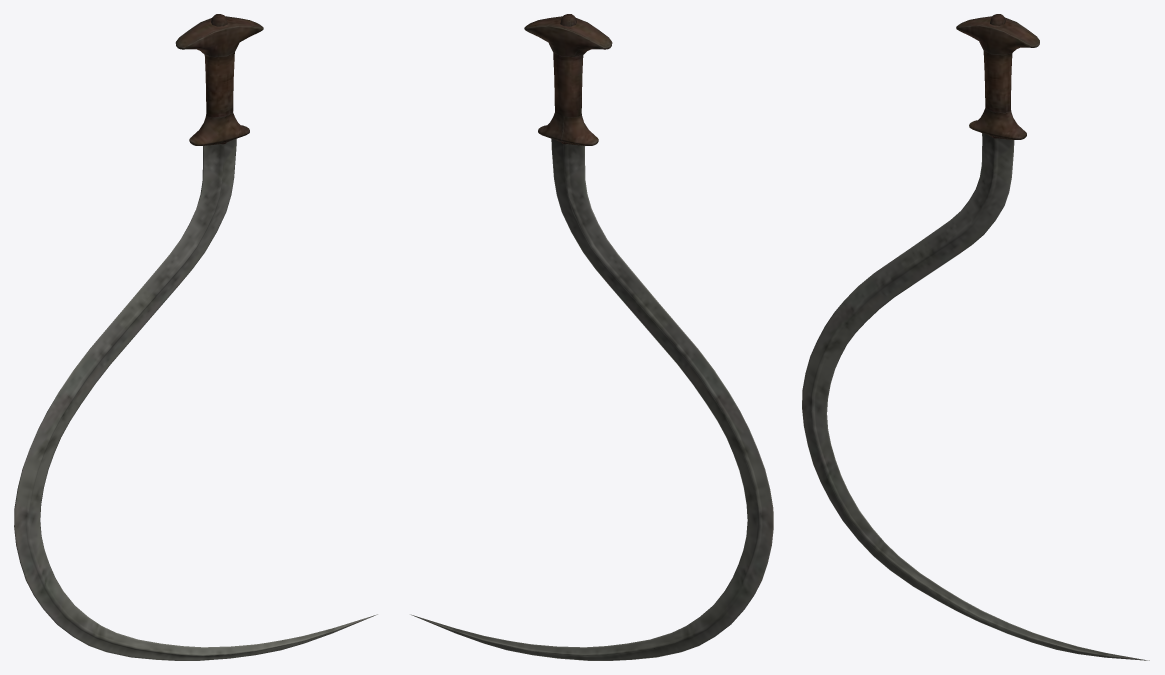
The model's file is weapon-wp_a_0402.glb.
3 views of the same model, side by side, from view 1: azimuth 30°, elevation 25°; view 2: azimuth 150°, elevation 25°; view 3: azimuth 330°, elevation 25° (orthographic). The views are drawn at different scales.
Visible parts, largest first — view 1: wp_a_0402_mesh; view 2: wp_a_0402_mesh; view 3: wp_a_0402_mesh.
Boxes of the visible parts, box(x1,y1,x2,y2) form: wp_a_0402_mesh: box(14, 14, 377, 660); wp_a_0402_mesh: box(410, 14, 773, 660); wp_a_0402_mesh: box(802, 14, 1149, 660).
Bounding box in the file's own units: 0.4935 × 0.8374 × 0.0366.
1 material, 1 textured.
